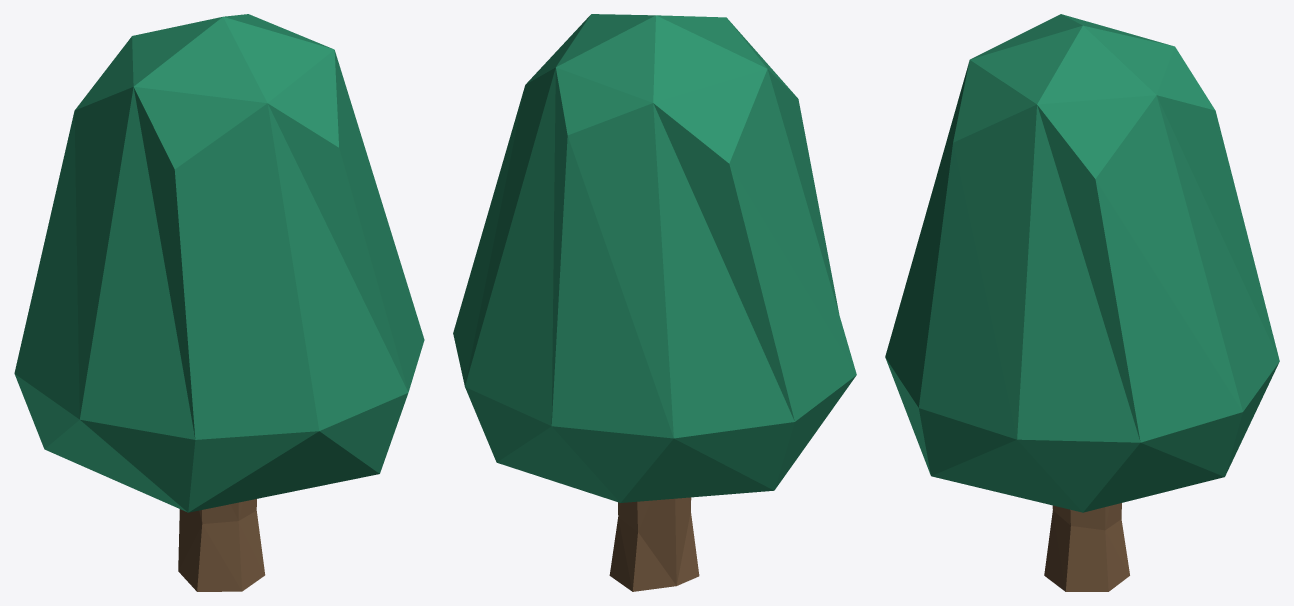
The model's file is StonePine.fbx.
The picture shows the model from 3 angles, left to right: view 1: azimuth 30°, elevation 25°; view 2: azimuth 150°, elevation 25°; view 3: azimuth 270°, elevation 25°; orthographic projection.
Visible parts, largest first — view 1: Stone_pine; view 2: Stone_pine; view 3: Stone_pine.
Part boxes in pixels (x1,y1,x2,y2): Stone_pine: (14,14,424,591); Stone_pine: (453,14,856,591); Stone_pine: (885,14,1279,591).
Bounding box in the file's own units: 1.3 × 2 × 1.3.
